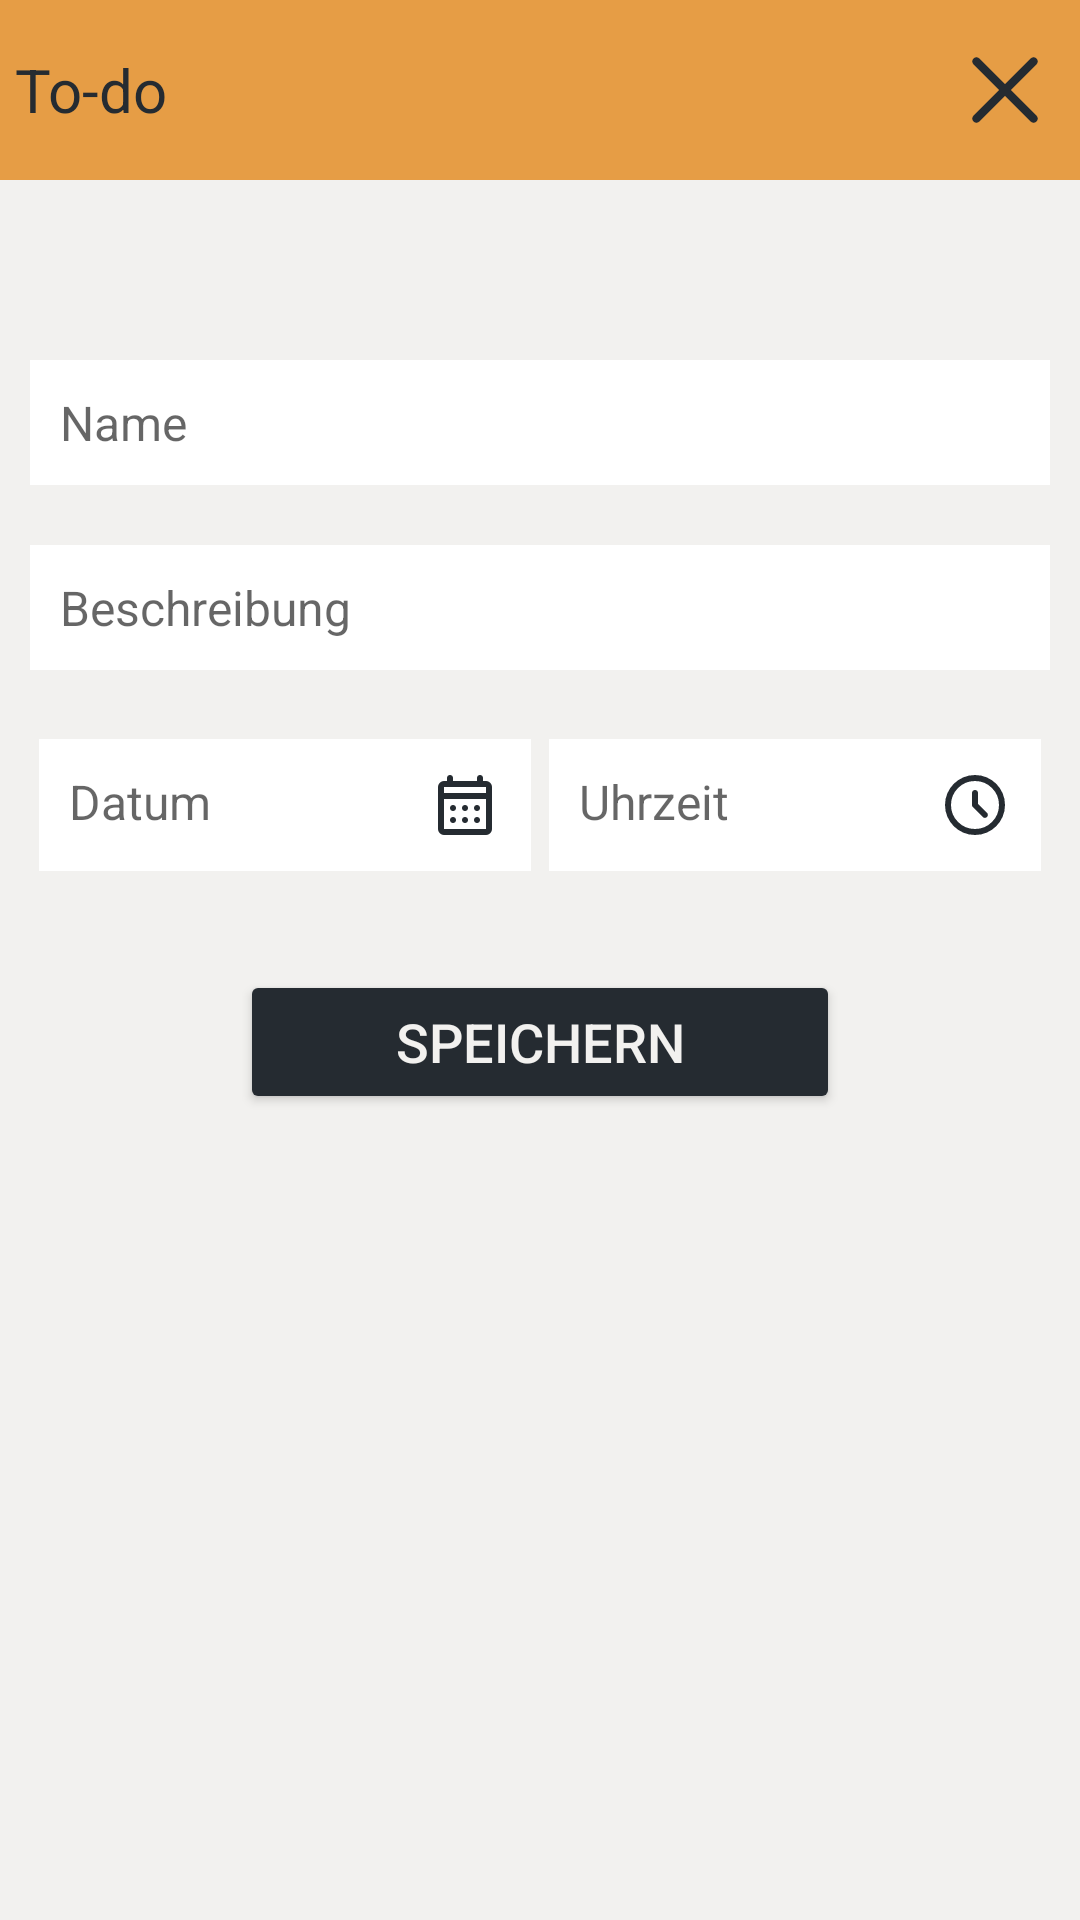

Named icons in this screenshot (1080px x 1920px) and their bounding boxes, (x1, y1, x2, y2):
cancel: (972, 57, 1038, 123)
